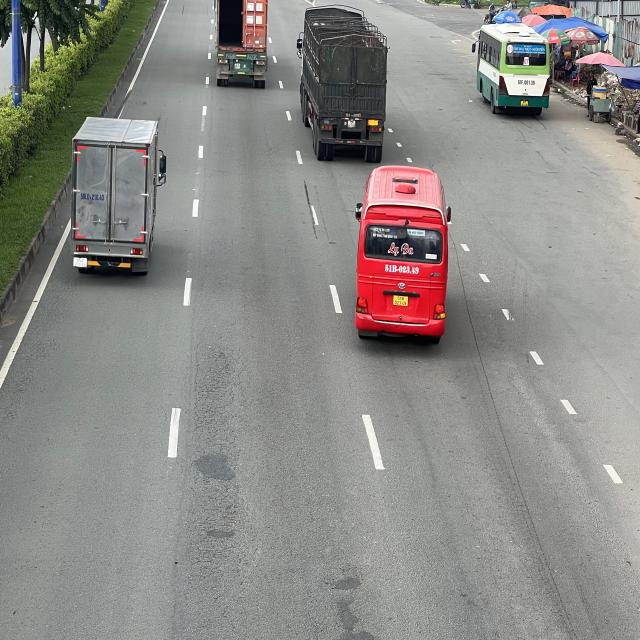coach: (353, 167, 452, 343), (472, 22, 553, 115)
container: (296, 6, 388, 161), (216, 0, 269, 89)
truck: (69, 118, 167, 278)
